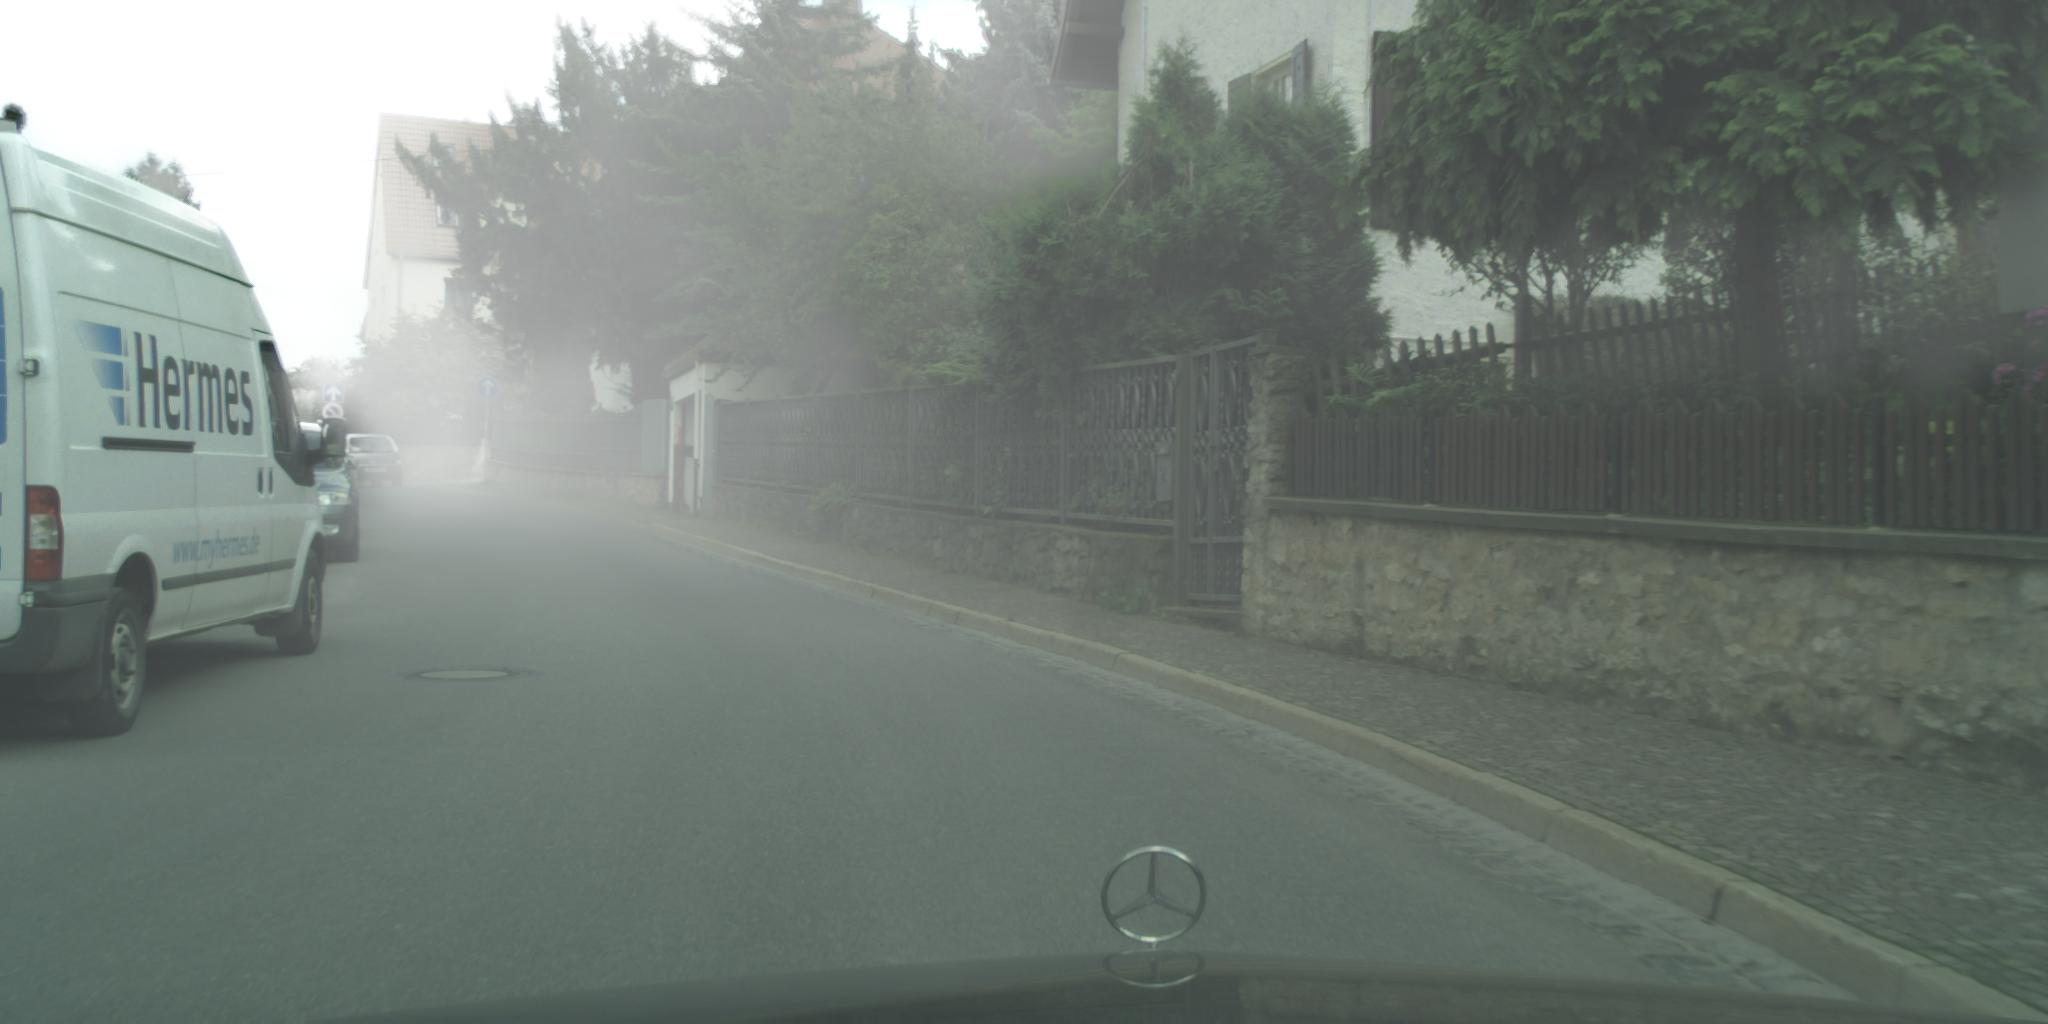car: (1, 119, 353, 741), (300, 458, 360, 566), (345, 434, 406, 490), (287, 424, 328, 462)
